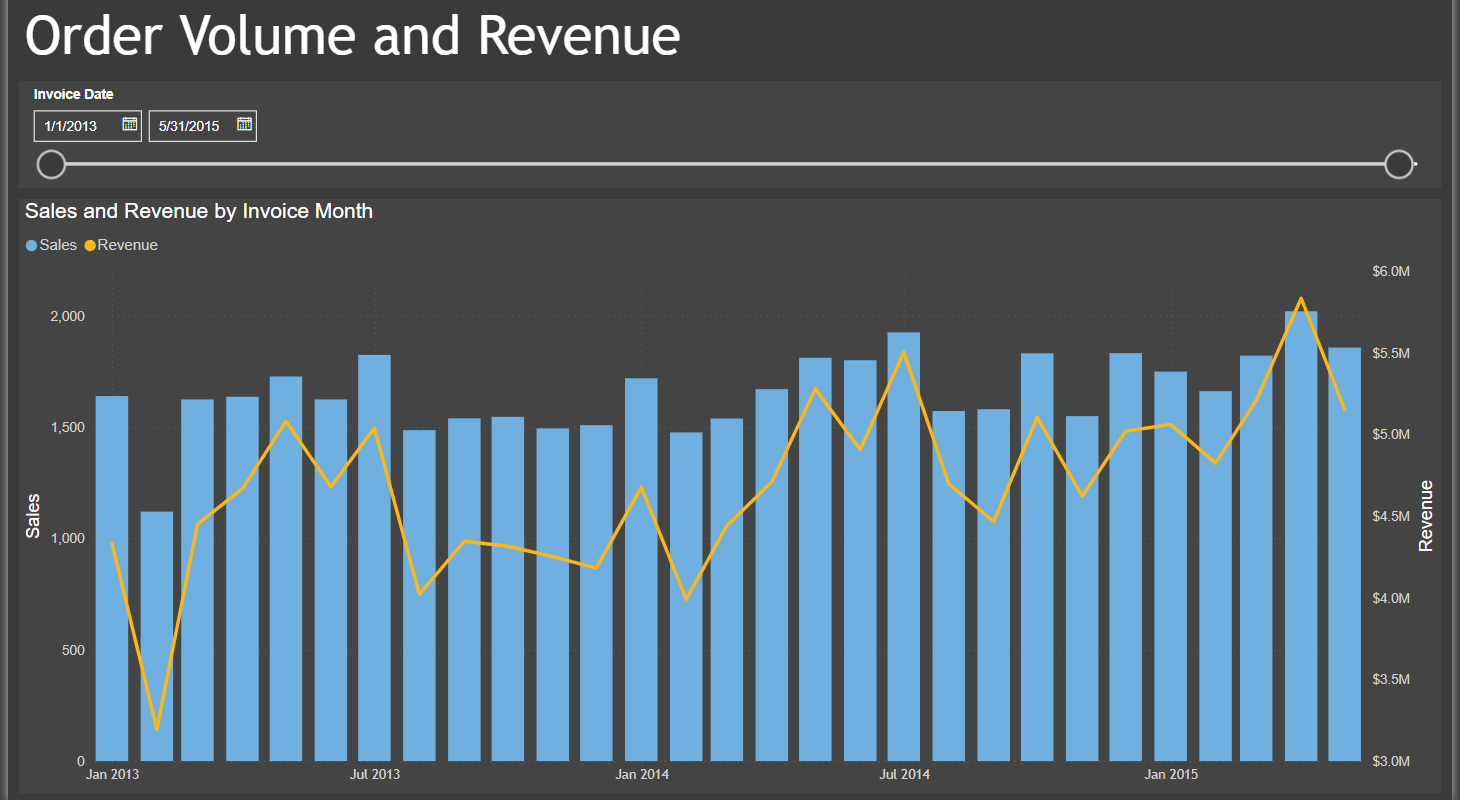

Layout of this report page (visuals, bound fields, positions):
{"tool":"powerbi","page":{"name":"Order Volume and Revenue","canvas":[1280,720],"ordinal":0},"visuals":[{"type":"textbox","box":[9.8,7.1,1260.9,73.6],"z":0},{"type":"slicer","fields":{"Values":["DailySalesData.InvoiceDate"]},"box":[9.8,80.7,1260.9,94.9],"z":1000},{"type":"lineStackedColumnComboChart","fields":{"Category":["DailySalesData.InvoiceMonthStart.Variation.Date Hierarchy.Year","DailySalesData.InvoiceMonthStart","DailySalesData.InvoiceWeekStart","DailySalesData.InvoiceDate"],"Y2":["Sum(DailySalesData.Revenue)"],"Y":["DailySalesData.Sales"]},"box":[9.8,185.3,1260.9,526.7],"z":2000}]}

Visuals, with their boxes in screenshot pixels (x1, y1, x2, y2), scaled from the page's 1280x720 canvas onto the 1460x800 screenshot:
textbox: region(11, 8, 1449, 90)
slicer - DailySalesData.InvoiceDate: region(11, 90, 1449, 195)
lineStackedColumnComboChart - DailySalesData.InvoiceMonthStart.Variation.Date Hierarchy.Year x DailySalesData.InvoiceMonthStart: region(11, 206, 1449, 791)
